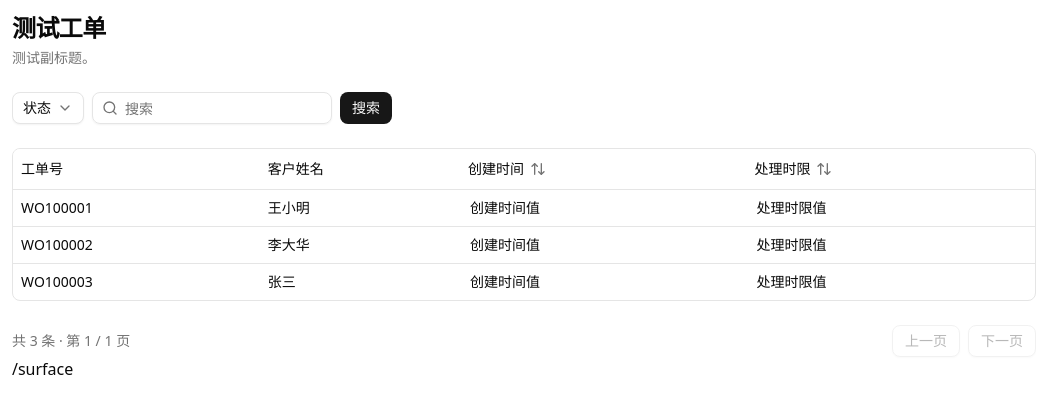
Test: URL 筛选态 › 排序表头：首击用列定义的初始方向，再击翻转
This screenshot has width=1048, height=396.
Click the button "创建时间".
click(507, 169)  # box [458,153,556,185]
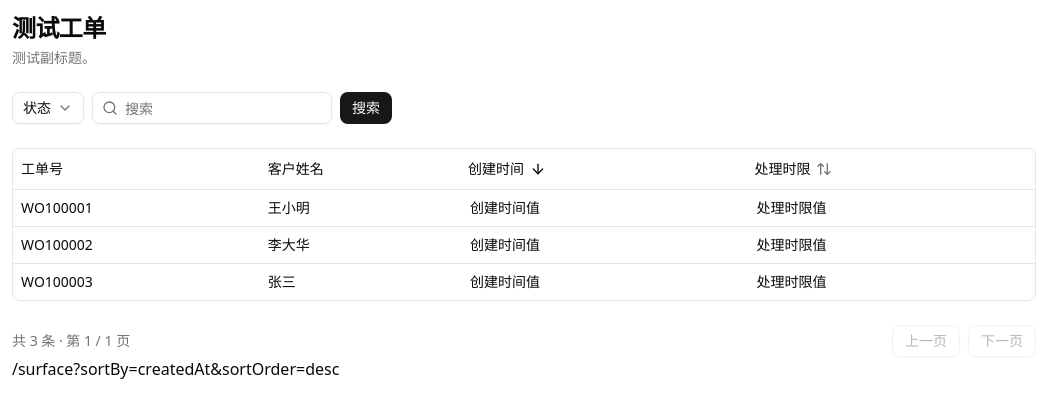
Click the button "创建时间".
click(507, 169)  # box [458,153,556,185]
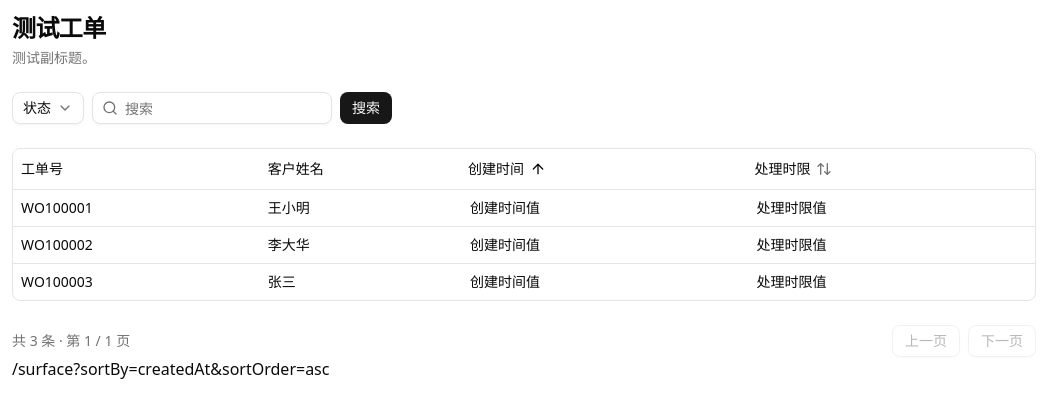
Click the button "处理时限".
click(794, 169)  # box [744,153,842,185]
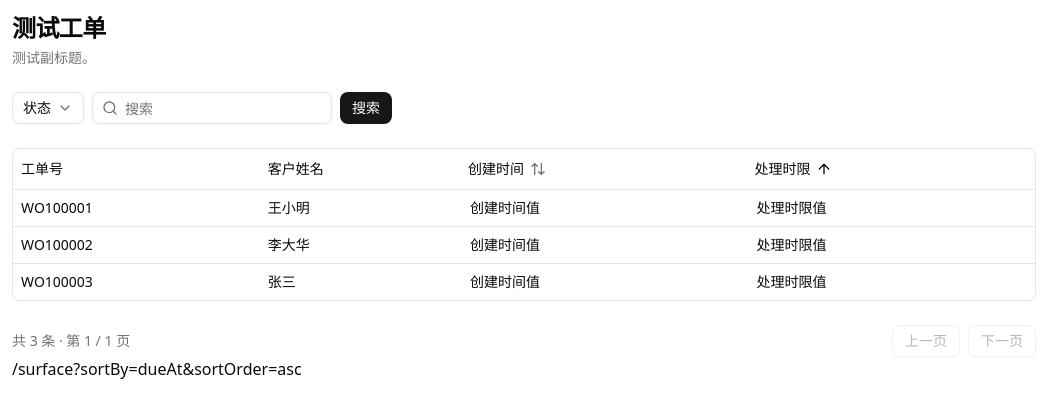
expect the text with test id "location" reads "/surface?sortBy=dueAt&sortOrder=asc": met, box [12,358,302,380]
